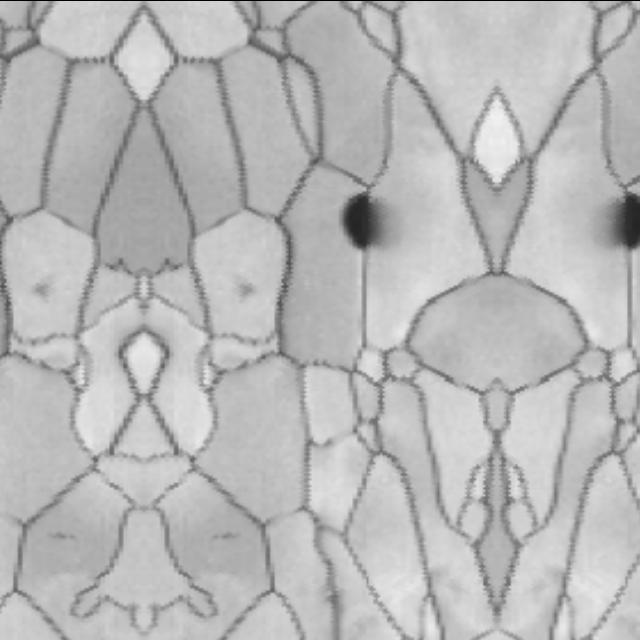good_void: (335, 187, 392, 253), (601, 187, 640, 253), (229, 275, 264, 311), (22, 275, 57, 311), (207, 522, 248, 549), (38, 522, 79, 549), (319, 571, 347, 610)
